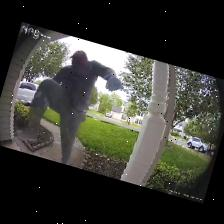person: (18, 51, 122, 164)
